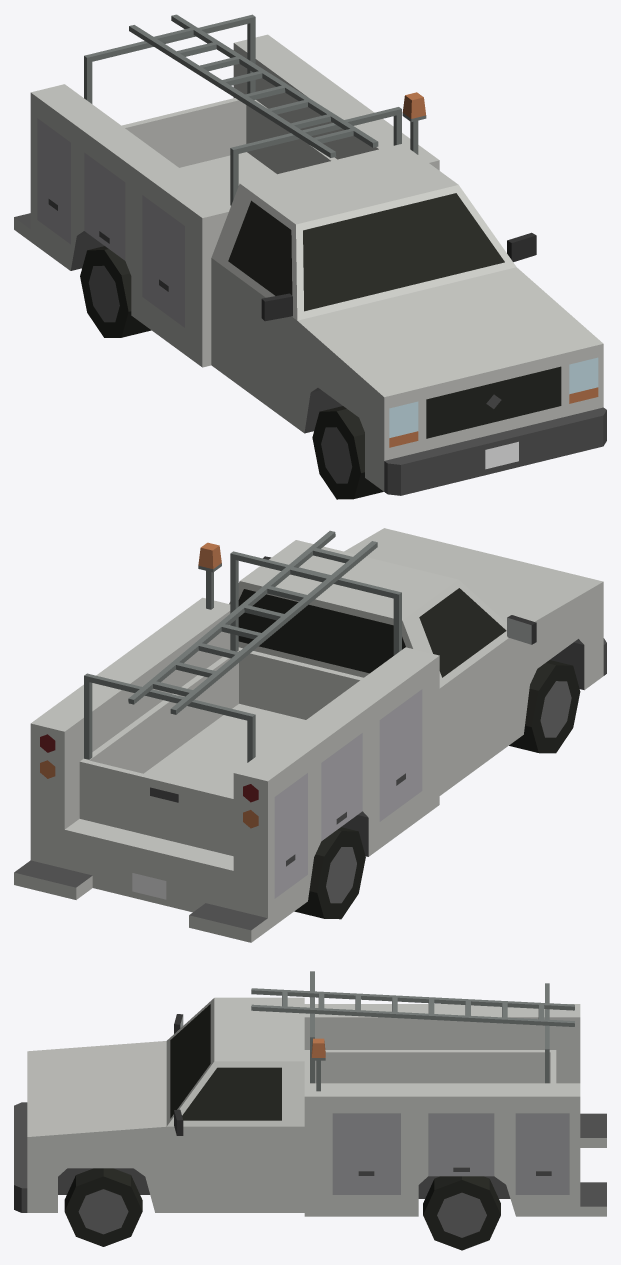
The model's file is Veh_Utility_Truck.glb.
The picture shows the model from 3 angles, top to bottom: view 1: azimuth 30°, elevation 25°; view 2: azimuth 150°, elevation 25°; view 3: azimuth 270°, elevation 25°; orthographic projection. The views are drawn at different scales.
Visible parts, largest first — view 1: Utility_Truck, Wheel_FR, Wheel_RR; view 2: Utility_Truck, Wheel_FR, Wheel_RR; view 3: Utility_Truck, Wheel_FL, Wheel_RL.
Part boxes in pixels (box(x1,y1,x2,y2)): Utility_Truck: box(14, 14, 606, 495); Wheel_FR: box(312, 406, 383, 499); Wheel_RR: box(80, 246, 151, 337); Utility_Truck: box(14, 528, 606, 942); Wheel_FR: box(509, 660, 580, 753); Wheel_RR: box(294, 827, 365, 919); Utility_Truck: box(14, 971, 606, 1216); Wheel_FL: box(64, 1168, 142, 1246); Wheel_RL: box(423, 1176, 500, 1250).
Size of the model in its own units: 1.46 by 1.32 by 3.44.
1 material, 1 textured.
